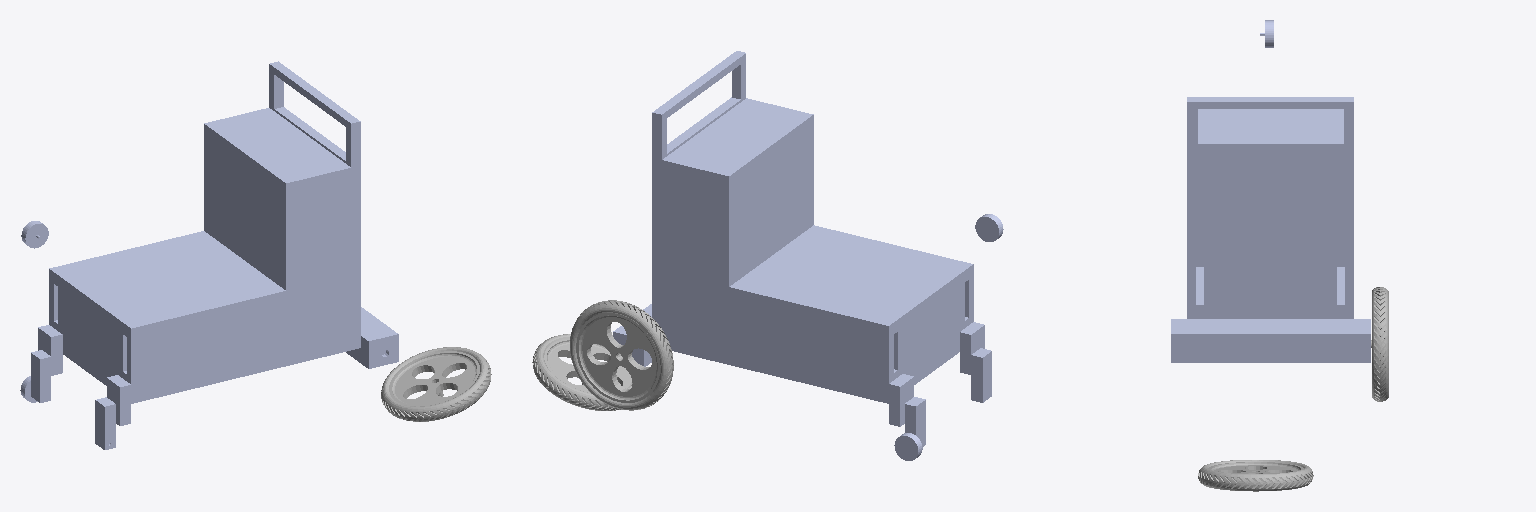
URDF robot description (B):
<?xml version="1.0" encoding="utf-8"?>
<!-- This URDF was automatically created by SolidWorks to URDF Exporter! Originally created by [author] ([email redacted]) 
     Commit Version: 1.5.1-0-g916b5db  Build Version: 1.5.7152.31018
     For more information, please see http://wiki.ros.org/sw_urdf_exporter -->
<robot
  name="B">
  <link
    name="base_link">
    <inertial>
      <origin
        xyz="4.9931E-17 -4.9931E-17 4.9735E-18"
        rpy="0 0 0" />
      <mass
        value="277.94" />
      <inertia
        ixx="21.196"
        ixy="-6.7841"
        ixz="-0.0021537"
        iyy="33.463"
        iyz="-0.0014165"
        izz="37.559" />
    </inertial>
    <visual>
      <origin
        xyz="0 0 0"
        rpy="0 0 0" />
      <geometry>
        <mesh
          filename="package://B/meshes/base_link.STL" />
      </geometry>
      <material
        name="">
        <color
          rgba="0.79216 0.81961 0.93333 1" />
      </material>
    </visual>
    <collision>
      <origin
        xyz="0 0 0"
        rpy="0 0 0" />
      <geometry>
        <mesh
          filename="package://B/meshes/base_link.STL" />
      </geometry>
    </collision>
  </link>
  <link
    name="WL">
    <inertial>
      <origin
        xyz="0.054679 2.6676E-06 2.498E-16"
        rpy="0 0 0" />
      <mass
        value="4.5297" />
      <inertia
        ixx="0.12385"
        ixy="2.3594E-08"
        ixz="5.5815E-10"
        iyy="0.062775"
        iyz="5.8663E-07"
        izz="0.062775" />
    </inertial>
    <visual>
      <origin
        xyz="0 0 0"
        rpy="0 0 0" />
      <geometry>
        <mesh
          filename="package://B/meshes/WL.STL" />
      </geometry>
      <material
        name="">
        <color
          rgba="0.75294 0.75294 0.75294 1" />
      </material>
    </visual>
    <collision>
      <origin
        xyz="0 0 0"
        rpy="0 0 0" />
      <geometry>
        <mesh
          filename="package://B/meshes/WL.STL" />
      </geometry>
    </collision>
  </link>
  <joint
    name="WL"
    type="revolute">
    <origin
      xyz="0.44371 0.34494 -0.28028"
      rpy="-3.0034 0 1.5708" />
    <parent
      link="base_link" />
    <child
      link="WL" />
    <axis
      xyz="1 0 0" />
    <limit
      lower="0"
      upper="0"
      effort="0"
      velocity="0" />
  </joint>
  <link
    name="WR">
    <inertial>
      <origin
        xyz="0.054679 -1.7346E-06 -2.0266E-06"
        rpy="0 0 0" />
      <mass
        value="4.5297" />
      <inertia
        ixx="0.12385"
        ixy="-2.0883E-08"
        ixz="-2.4398E-08"
        iyy="0.062775"
        iyz="-9.1968E-08"
        izz="0.062776" />
    </inertial>
    <visual>
      <origin
        xyz="0 0 0"
        rpy="0 0 0" />
      <geometry>
        <mesh
          filename="package://B/meshes/WR.STL" />
      </geometry>
      <material
        name="">
        <color
          rgba="0.75294 0.75294 0.75294 1" />
      </material>
    </visual>
    <collision>
      <origin
        xyz="0 0 0"
        rpy="0 0 0" />
      <geometry>
        <mesh
          filename="package://B/meshes/WR.STL" />
      </geometry>
    </collision>
  </link>
  <joint
    name="WR"
    type="revolute">
    <origin
      xyz="0.44371 -0.34506 -0.28028"
      rpy="-2.0022 0 -1.5708" />
    <parent
      link="base_link" />
    <child
      link="WR" />
    <axis
      xyz="1 0 0" />
    <limit
      lower="0"
      upper="0"
      effort="0"
      velocity="0" />
  </joint>
  <link
    name="CL">
    <inertial>
      <origin
        xyz="0 0 0.034834"
        rpy="0 0 0" />
      <mass
        value="0.23719" />
      <inertia
        ixx="0.00016597"
        ixy="3.3881E-21"
        ixz="-7.473E-21"
        iyy="0.00016597"
        iyz="-5.179E-21"
        izz="0.00029454" />
    </inertial>
    <visual>
      <origin
        xyz="0 0 0"
        rpy="0 0 0" />
      <geometry>
        <mesh
          filename="package://B/meshes/CL.STL" />
      </geometry>
      <material
        name="">
        <color
          rgba="0.79216 0.81961 0.93333 1" />
      </material>
    </visual>
    <collision>
      <origin
        xyz="0 0 0"
        rpy="0 0 0" />
      <geometry>
        <mesh
          filename="package://B/meshes/CL.STL" />
      </geometry>
    </collision>
  </link>
  <joint
    name="CL"
    type="revolute">
    <origin
      xyz="-0.68679 0.25494 -0.42528"
      rpy="-1.5708 -0.39309 0" />
    <parent
      link="base_link" />
    <child
      link="CL" />
    <axis
      xyz="0 0 1" />
    <limit
      lower="0"
      upper="0"
      effort="0"
      velocity="0" />
  </joint>
  <link
    name="CR">
    <inertial>
      <origin
        xyz="0 0 0.034834"
        rpy="0 0 0" />
      <mass
        value="0.23719" />
      <inertia
        ixx="0.00016597"
        ixy="-6.7763E-21"
        ixz="-1.0152E-20"
        iyy="0.00016597"
        iyz="4.392E-21"
        izz="0.00029454" />
    </inertial>
    <visual>
      <origin
        xyz="0 0 0"
        rpy="0 0 0" />
      <geometry>
        <mesh
          filename="package://B/meshes/CR.STL" />
      </geometry>
      <material
        name="">
        <color
          rgba="0.79216 0.81961 0.93333 1" />
      </material>
    </visual>
    <collision>
      <origin
        xyz="0 0 0"
        rpy="0 0 0" />
      <geometry>
        <mesh
          filename="package://B/meshes/CR.STL" />
      </geometry>
    </collision>
  </link>
  <joint
    name="CR"
    type="revolute">
    <origin
      xyz="-0.68679 -0.25506 -0.42528"
      rpy="-1.5708 -1.2021 3.1416" />
    <parent
      link="base_link" />
    <child
      link="CR" />
    <axis
      xyz="0 0 1" />
    <limit
      lower="0"
      upper="0"
      effort="0"
      velocity="0" />
  </joint>
</robot>

--- Render facts (derived) ---
The picture shows the robot from 3 angles, left to right: view 1: azimuth 30°, elevation 25°; view 2: azimuth 150°, elevation 25°; view 3: azimuth 270°, elevation 25°; orthographic projection.
Robot: B — 5 links, 4 joints (4 revolute); root link base_link; default pose: all joints at 0.
Visible links, largest first — view 1: base_link, WR, CR; view 2: base_link, WL, WR, CR, CL; view 3: base_link, WR, WL.
Boxes of the visible links, box(x1,y1,x2,y2) form: base_link: box(31, 61, 398, 449); WR: box(381, 347, 491, 421); CR: box(21, 221, 48, 248); base_link: box(613, 51, 991, 446); WL: box(570, 300, 673, 410); WR: box(532, 334, 632, 410); CR: box(975, 214, 1003, 241); CL: box(894, 433, 922, 460); base_link: box(1171, 97, 1370, 362); WR: box(1198, 460, 1313, 491); WL: box(1371, 287, 1388, 401).
Size in the robot's own frame: 1.95 by 0.7966 by 1.37 metres.
Meshes: 5 distinct files referenced, 5 mesh visuals loaded (5 binary STL).